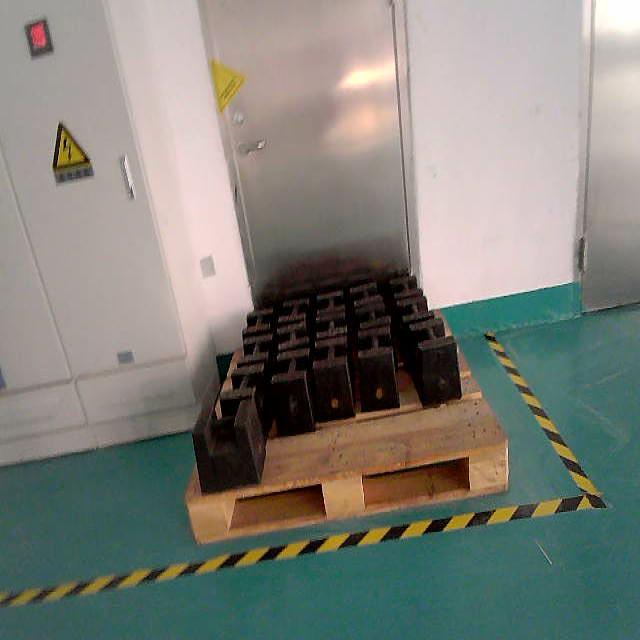euro: (186, 353, 508, 541)
